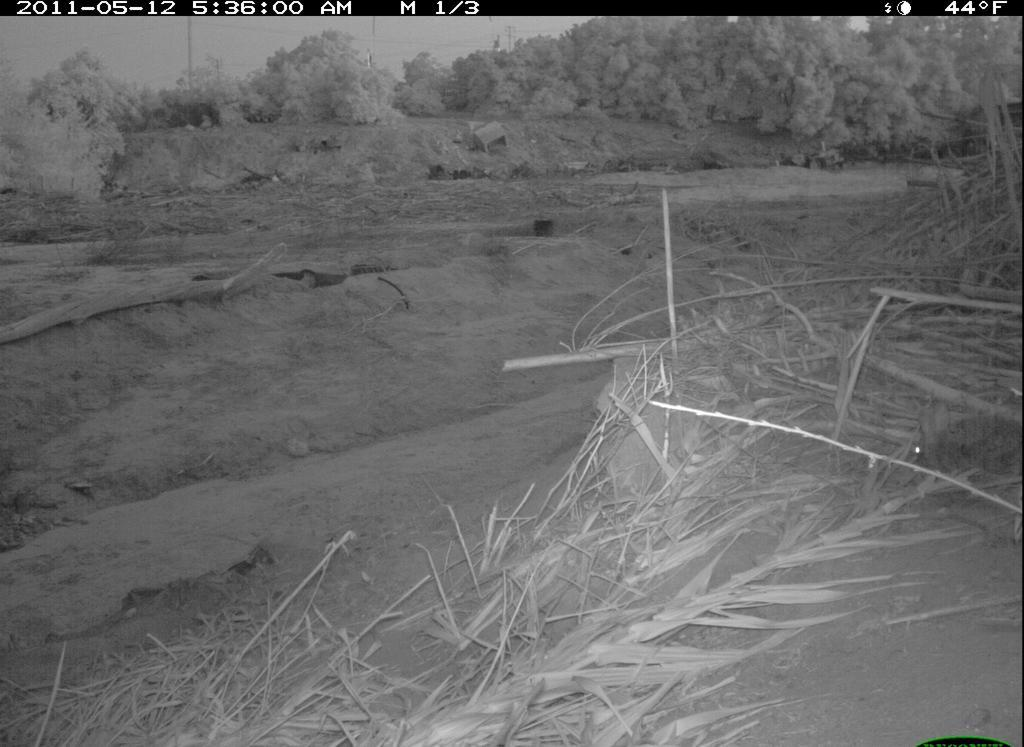rabbit: (900, 395, 1023, 487)
